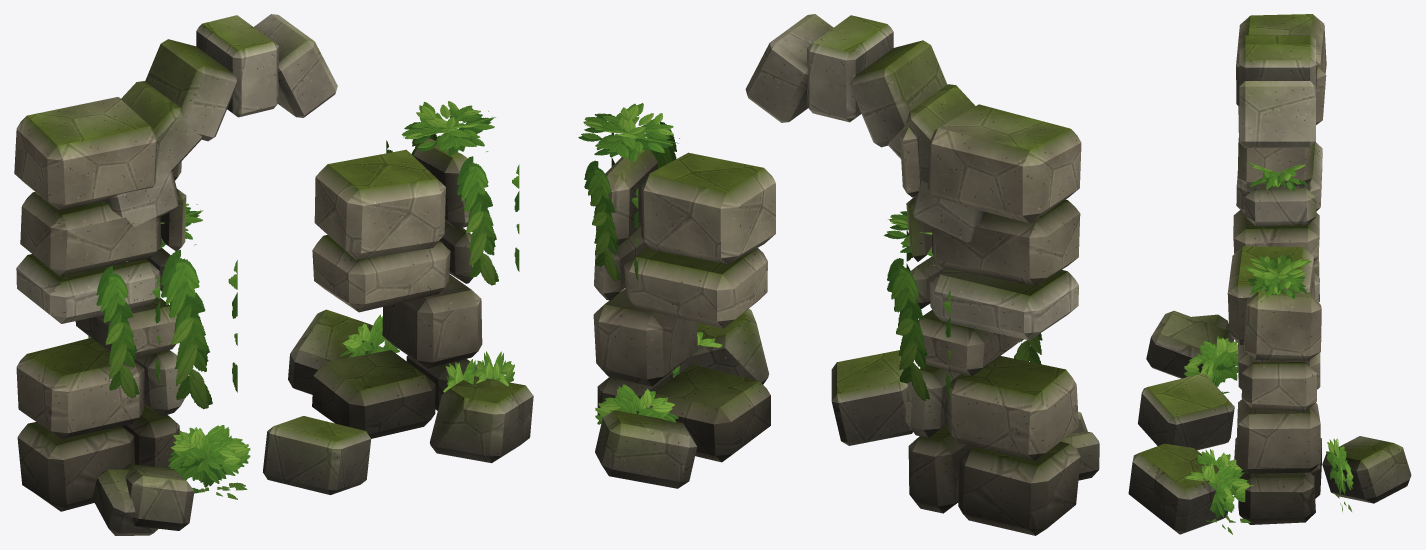
File: ruin_wall_c.glb
3 views of the same model, side by side, from view 1: azimuth 30°, elevation 25°; view 2: azimuth 150°, elevation 25°; view 3: azimuth 270°, elevation 25° (orthographic). The views are drawn at different scales.
Parts seen in each view (by area): view 1: ruin_wall_c; view 2: ruin_wall_c; view 3: ruin_wall_c.
Part boxes in pixels (x1=…): ruin_wall_c: x1=14, y1=14, x2=533, y2=535; ruin_wall_c: x1=578, y1=14, x2=1099, y2=535; ruin_wall_c: x1=1128, y1=14, x2=1411, y2=534.
Bounding box in the file's own units: 2.87 × 2.55 × 1.7.
Materials: 2 (2 with a texture image).
